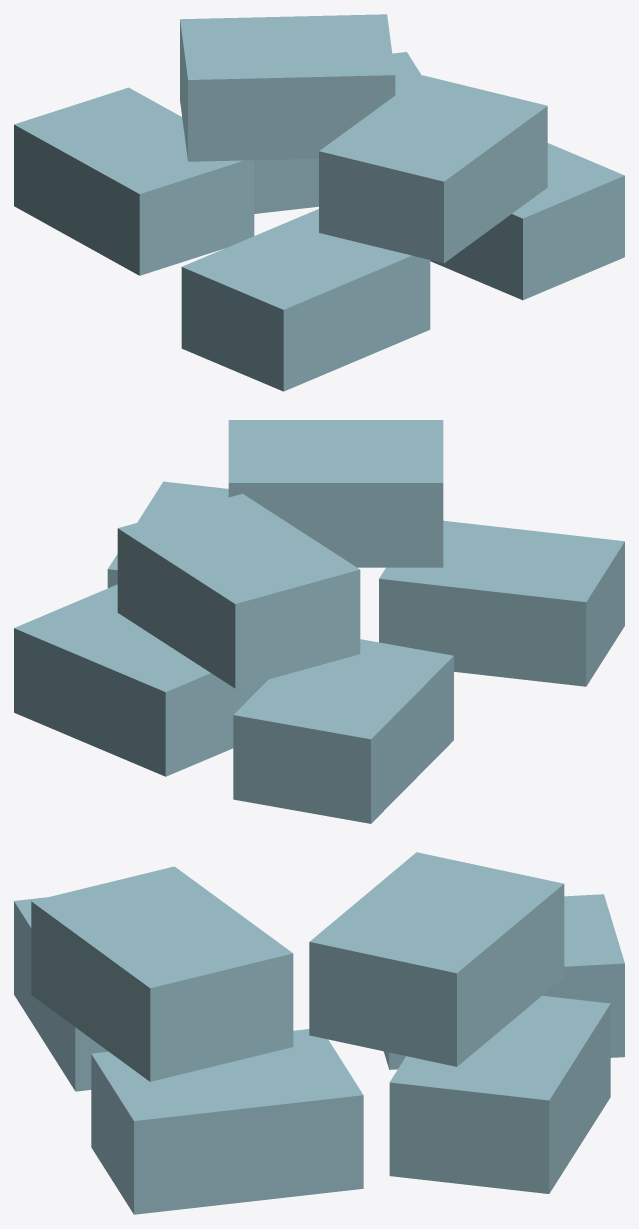
Rendered from d_kenney_debris.glb.
3 renders of one model, top to bottom at view 1: azimuth 30°, elevation 25°; view 2: azimuth 150°, elevation 25°; view 3: azimuth 270°, elevation 25°, orthographic. The views are drawn at different scales.
Visible parts, largest first — view 1: d_kenney_debris; view 2: d_kenney_debris; view 3: d_kenney_debris.
Boxes of the visible parts, left/top/right/bottom form: d_kenney_debris: left=14, top=14, right=624, bottom=391; d_kenney_debris: left=14, top=420, right=624, bottom=823; d_kenney_debris: left=14, top=852, right=624, bottom=1214.
Size of the model in its own units: 0.4365 by 0.16 by 0.4731.
Materials: 1 (1 with a texture image).
